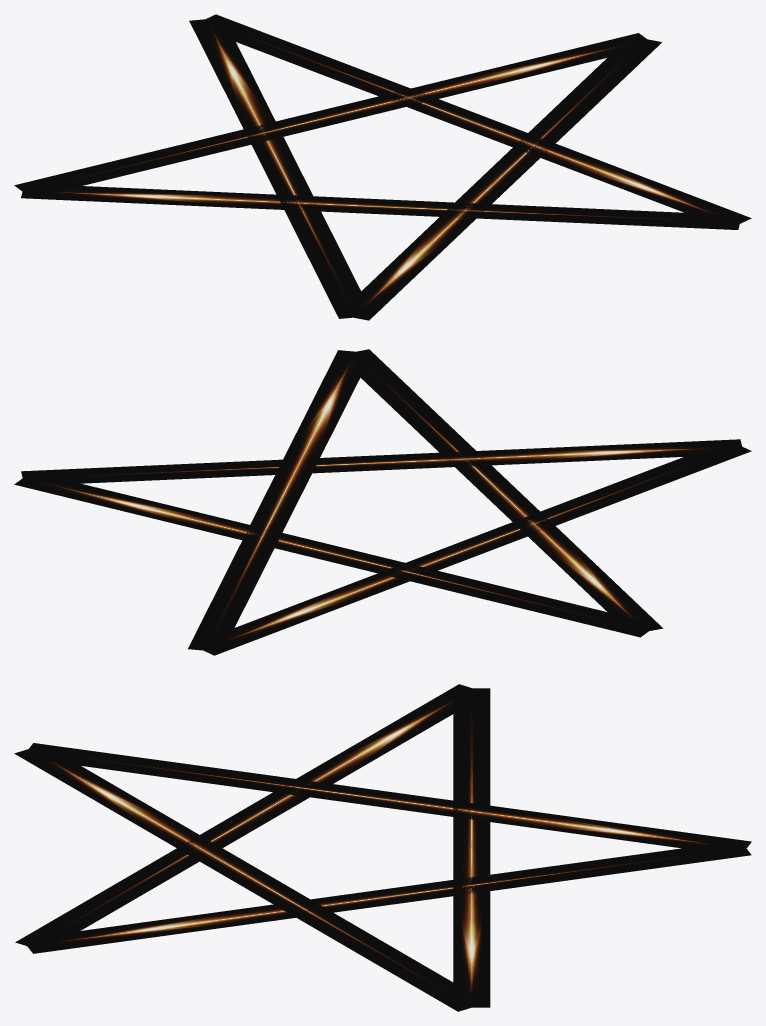
File: wujiaoxing2.FBX
3 views of the same model, one above another, from view 1: azimuth 30°, elevation 25°; view 2: azimuth 150°, elevation 25°; view 3: azimuth 270°, elevation 25° (orthographic). The views are drawn at different scales.
Parts seen in each view (by area): view 1: Sphere005; view 2: Sphere005; view 3: Sphere005.
Part boxes in pixels (box(x1,y1,x2,y2)): Sphere005: box(14, 14, 751, 320); Sphere005: box(14, 349, 751, 655); Sphere005: box(14, 684, 751, 1011).
Size of the model in its own units: 288 by 1.68e-14 by 274.
